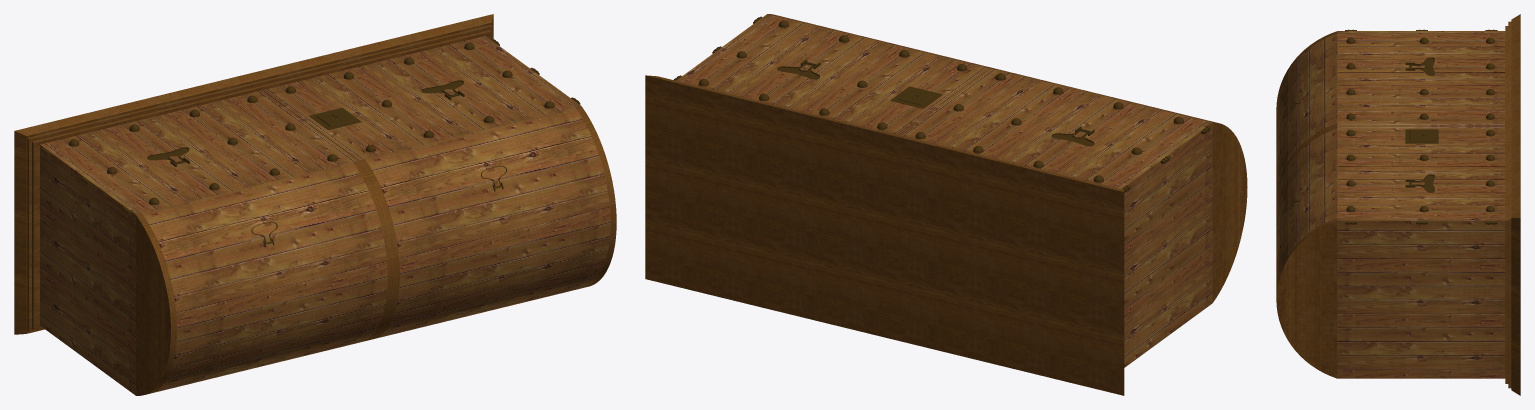
The model's file is cbc001.obj.
3 renders of one model, left to right at view 1: azimuth 30°, elevation 25°; view 2: azimuth 150°, elevation 25°; view 3: azimuth 270°, elevation 25°, orthographic. The views are drawn at different scales.
Parts seen in each view (by area): view 1: Arc04, Arc12, Rectangl21, Rectangle2, Rectangle0, Rectangle6, Arc10, Rectangle4, Rectangle5, Arc11, Arc07, Arc08 (+1 smaller); view 2: Rectangle6, Rectangl21, Rectangle2, Rectangle0, Arc10, Rectangle3; view 3: Rectangle3, Rectangl21, Rectangle2, Arc07, Arc04, Arc12, Rectangle6, Rectangle5, Rectangle4, Rectangle0, Rectangle8, Rectangle7 (+2 smaller).
Boxes of the visible parts, x1=… form: Arc04: x1=365, y1=108, x2=610, y2=338; Arc12: x1=142, y1=162, x2=387, y2=392; Rectangl21: x1=46, y1=90, x2=358, y2=213; Rectangle2: x1=263, y1=37, x2=575, y2=160; Rectangle0: x1=40, y1=143, x2=141, y2=395; Rectangle6: x1=14, y1=14, x2=493, y2=334; Arc10: x1=136, y1=213, x2=176, y2=395; Rectangle4: x1=32, y1=30, x2=491, y2=329; Rectangle5: x1=27, y1=25, x2=492, y2=332; Arc11: x1=353, y1=161, x2=393, y2=341; Arc07: x1=576, y1=106, x2=616, y2=287; Arc08: x1=359, y1=159, x2=399, y2=340; Rectangle6: x1=645, y1=75, x2=1124, y2=395; Rectangl21: x1=899, y1=68, x2=1205, y2=187; Rectangle2: x1=682, y1=15, x2=989, y2=134; Rectangle0: x1=1115, y1=121, x2=1212, y2=367; Arc10: x1=1208, y1=121, x2=1247, y2=302; Rectangle3: x1=676, y1=14, x2=772, y2=81; Rectangle3: x1=1337, y1=218, x2=1505, y2=378; Rectangl21: x1=1337, y1=33, x2=1505, y2=125; Rectangle2: x1=1337, y1=126, x2=1505, y2=218; Arc07: x1=1276, y1=218, x2=1337, y2=378; Arc04: x1=1276, y1=129, x2=1337, y2=293; Arc12: x1=1276, y1=34, x2=1337, y2=198; Rectangle6: x1=1511, y1=14, x2=1520, y2=395; Rectangle5: x1=1508, y1=21, x2=1511, y2=388; Rectangle4: x1=1505, y1=26, x2=1508, y2=383; Rectangle0: x1=1337, y1=31, x2=1505, y2=33; Rectangle8: x1=1409, y1=130, x2=1434, y2=141; Rectangle7: x1=1405, y1=129, x2=1438, y2=143.
Size of the model in its own units: 1581 by 643 by 800.
3 materials, 2 textured.
